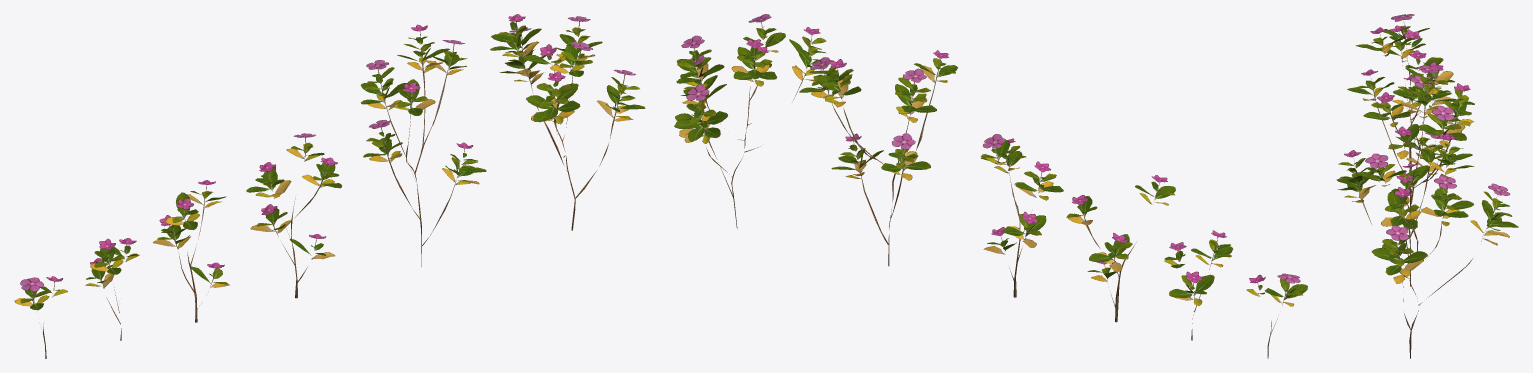
File: periwinkle_plant.glb
3 renders of one model, left to right at view 1: azimuth 30°, elevation 25°; view 2: azimuth 150°, elevation 25°; view 3: azimuth 270°, elevation 25°, orthographic. The views are drawn at different scales.
Visible parts, largest first — view 1: periwinkle_plant_04_LOD0; view 2: periwinkle_plant_04_LOD0; view 3: periwinkle_plant_04_LOD0.
Part boxes in pixels (box(x1,y1,x2,y2)): periwinkle_plant_04_LOD0: box(14, 14, 645, 358); periwinkle_plant_04_LOD0: box(674, 14, 1307, 358); periwinkle_plant_04_LOD0: box(1336, 14, 1518, 358).
Bounding box in the file's own units: 1.24 × 0.4107 × 0.3208.
Materials: 1 (1 with a texture image).
